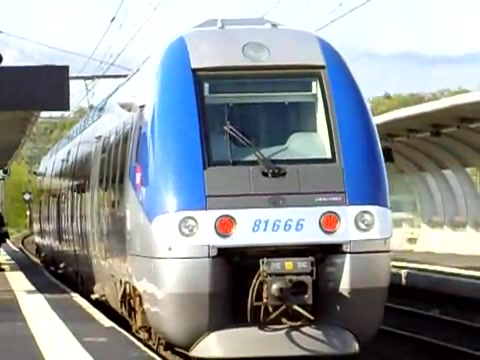train: (31, 18, 393, 360)
